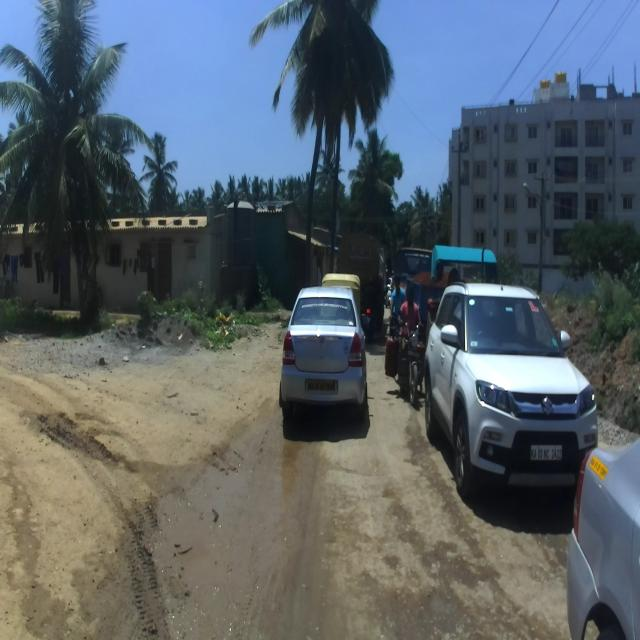car: (421, 280, 598, 498), (565, 433, 639, 637), (278, 286, 369, 422)
motorcycle: (383, 316, 422, 408)
